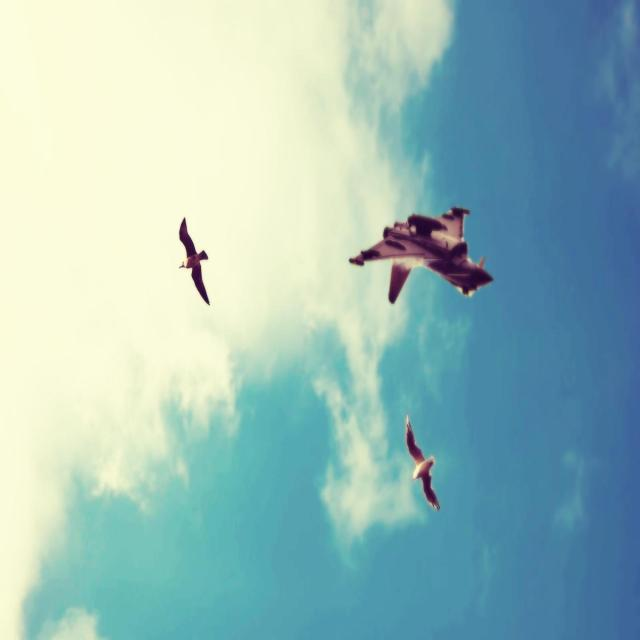airplane: (348, 205, 494, 304)
